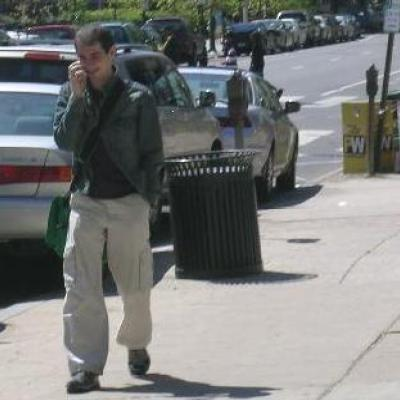ped: (53, 26, 162, 393)
